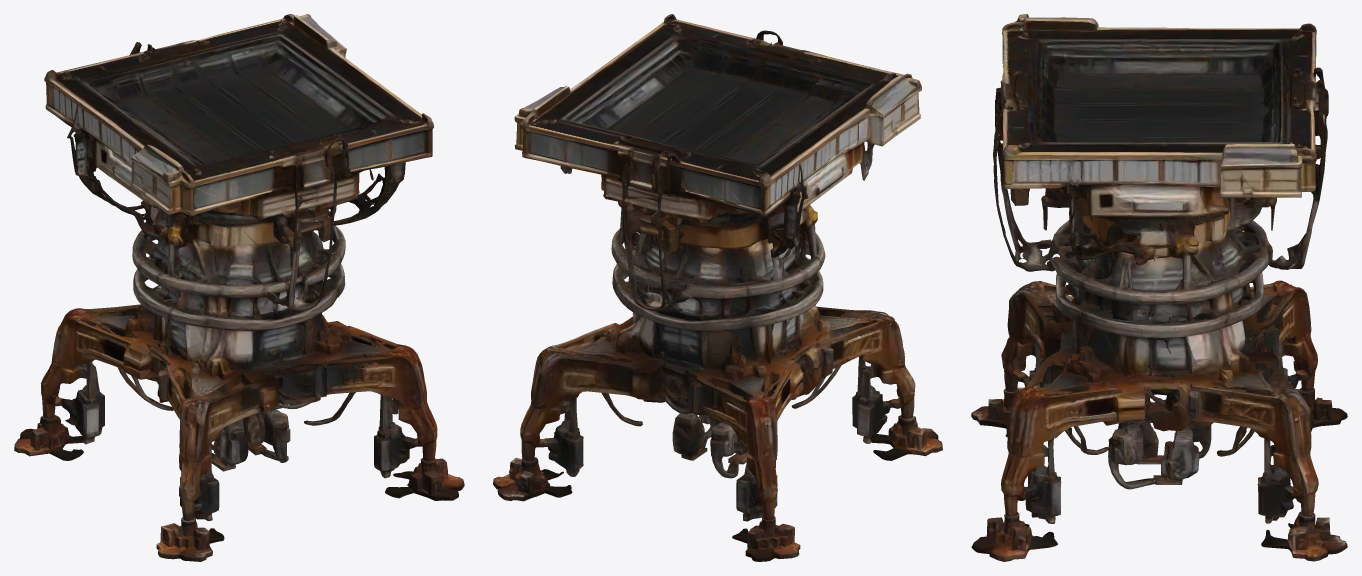
Rendered from prop_hangar_crane.fbx.
3 renders of one model, left to right at view 1: azimuth 30°, elevation 25°; view 2: azimuth 150°, elevation 25°; view 3: azimuth 270°, elevation 25°, orthographic. The views are drawn at different scales.
Parts seen in each view (by area): view 1: geometry_0; view 2: geometry_0; view 3: geometry_0.
Boxes of the visible parts, x1,y1,x2,y2 form: geometry_0: [14, 14, 464, 561]; geometry_0: [493, 14, 942, 561]; geometry_0: [971, 14, 1347, 561].
Bounding box in the file's own units: 0.8424 × 0.9948 × 0.8439.
